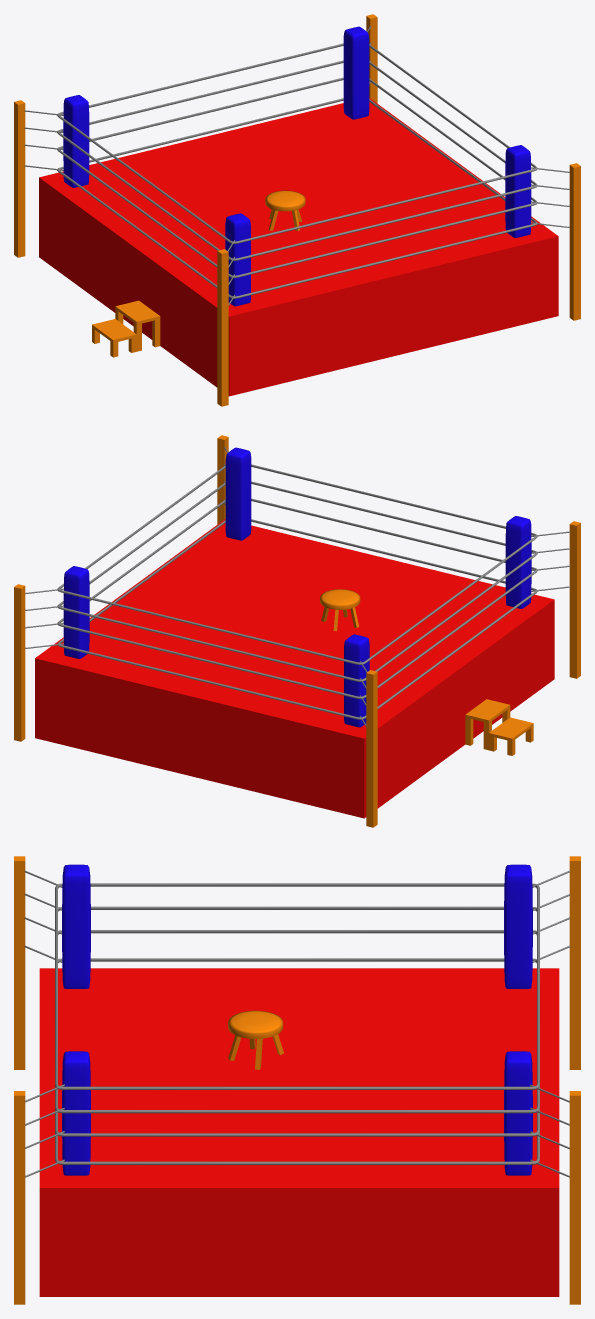
The model's file is boxing ring.fbx.
The picture shows the model from 3 angles, top to bottom: view 1: azimuth 30°, elevation 25°; view 2: azimuth 150°, elevation 25°; view 3: azimuth 270°, elevation 25°; orthographic projection. The views are drawn at different scales.
Parts seen in each view (by area): view 1: Cube.047, Cube.034, Cube.021, Cube.003, Cube.002, Cube.004, Cube.001, Cube.048, Cube.049, Cube.005; view 2: Cube.047, Cube.034, Cube.021, Cube.002, Cube.003, Cube.001, Cube.004, Cube.048, Cube.005, Cube.049; view 3: Cube.047, Cube.034, Cube.021, Cube.004, Cube.001, Cube.002, Cube.003, Cube.005.
Part boxes in pixels (left/top/right/bottom): Cube.047: left=39, top=98, right=558, bottom=396; Cube.034: left=24, top=26, right=569, bottom=305; Cube.021: left=14, top=14, right=580, bottom=406; Cube.003: left=343, top=26, right=369, bottom=119; Cube.002: left=505, top=145, right=531, bottom=237; Cube.004: left=63, top=95, right=89, bottom=187; Cube.001: left=225, top=213, right=250, bottom=306; Cube.048: left=115, top=300, right=160, bottom=351; Cube.049: left=92, top=319, right=136, bottom=357; Cube.005: left=265, top=190, right=305, bottom=230; Cube.047: left=35, top=519, right=554, bottom=818; Cube.034: left=25, top=447, right=570, bottom=726; Cube.021: left=14, top=435, right=580, bottom=827; Cube.002: left=225, top=447, right=251, bottom=540; Cube.003: left=63, top=566, right=89, bottom=658; Cube.001: left=505, top=516, right=531, bottom=608; Cube.004: left=344, top=634, right=369, bottom=727; Cube.048: left=465, top=699, right=510, bottom=750; Cube.005: left=320, top=589, right=360, bottom=631; Cube.049: left=489, top=717, right=533, bottom=755; Cube.047: left=39, top=968, right=559, bottom=1296; Cube.034: left=24, top=870, right=570, bottom=1177; Cube.021: left=14, top=856, right=580, bottom=1304; Cube.004: left=504, top=864, right=532, bottom=988; Cube.001: left=62, top=864, right=90, bottom=988; Cube.002: left=62, top=1051, right=90, bottom=1175; Cube.003: left=504, top=1051, right=532, bottom=1175; Cube.005: left=228, top=1010, right=283, bottom=1069.
Bounding box in the file's own units: 15624 × 6271 × 14408.
